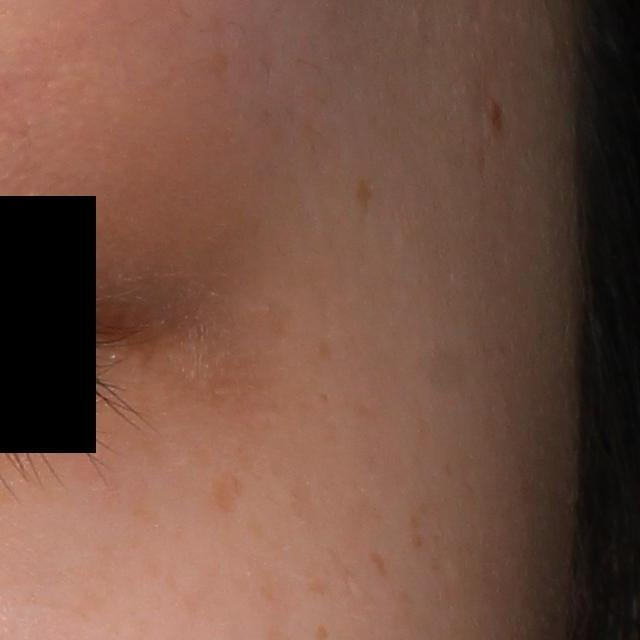melasma: (123, 472, 163, 529), (208, 466, 242, 514), (364, 548, 390, 580)
